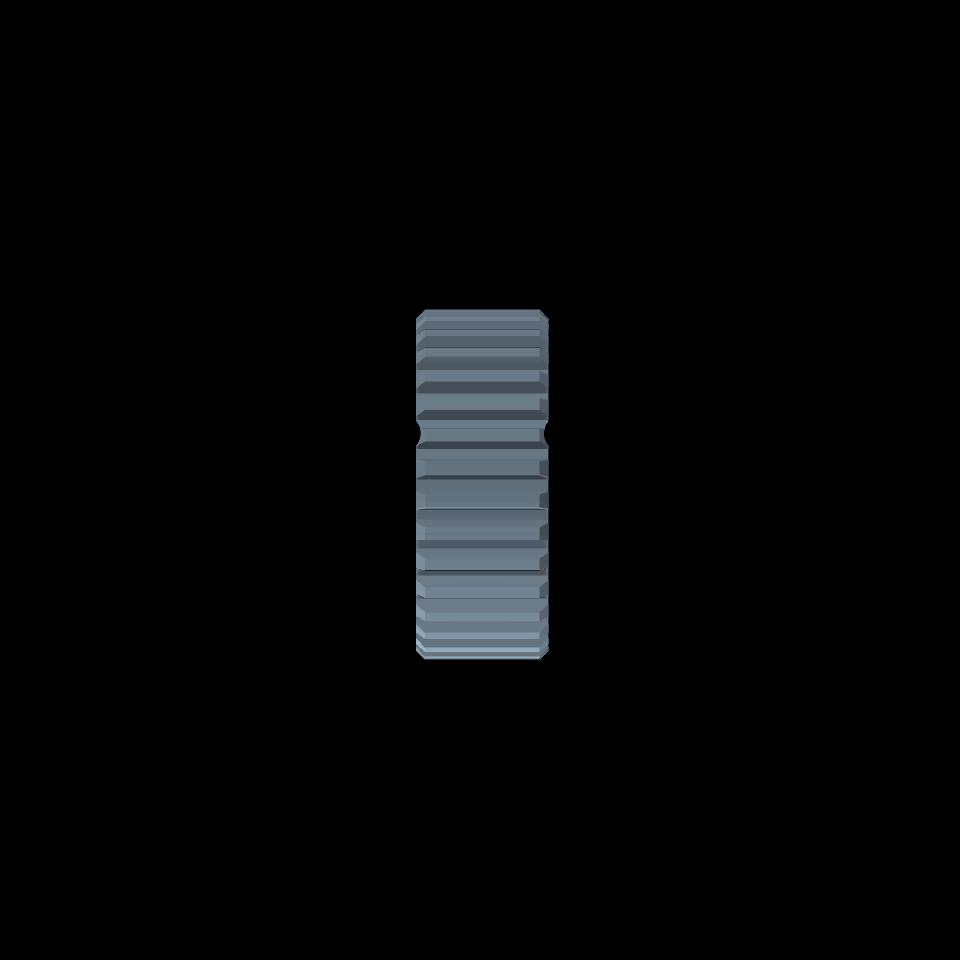Straight: (426, 310, 540, 658)
